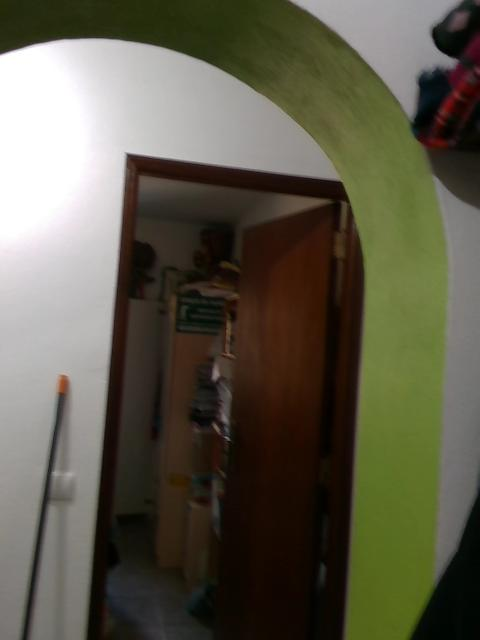open_door: (83, 149, 363, 639)
